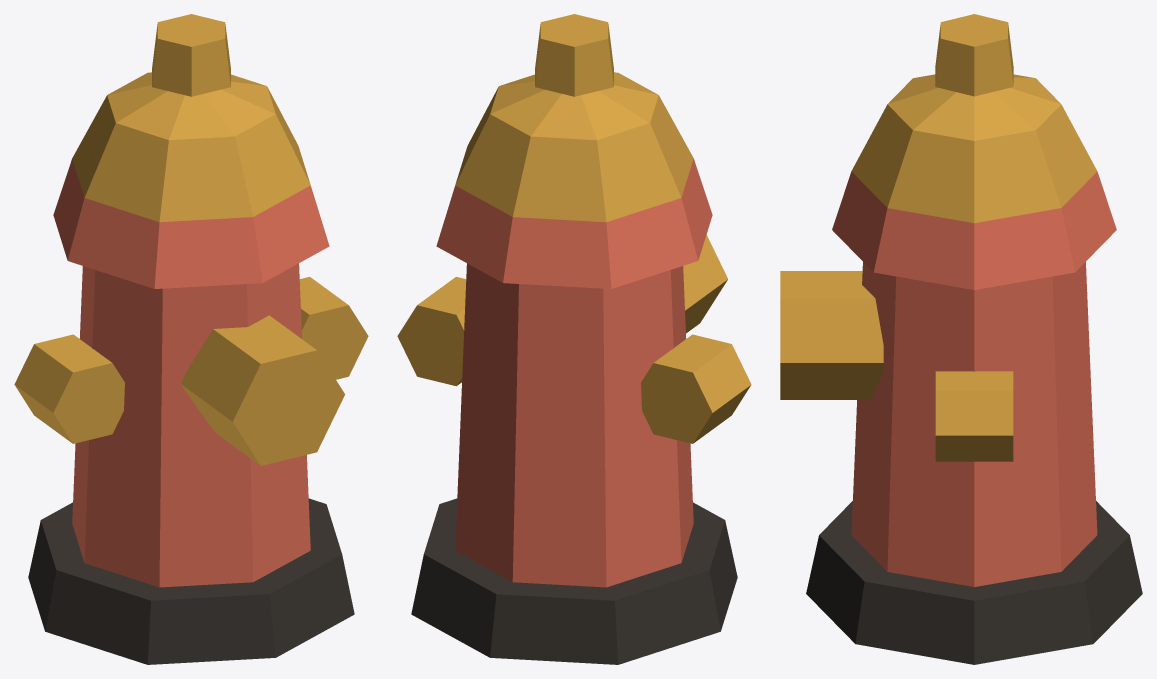
The model's file is hydrant.glb.
The picture shows the model from 3 angles, left to right: view 1: azimuth 30°, elevation 25°; view 2: azimuth 150°, elevation 25°; view 3: azimuth 270°, elevation 25°; orthographic projection.
Parts seen in each view (by area): view 1: hydrant_body, hydrant_foot, hydrant_bonnet, hydrant_shoulder, hydrant_nozzle, hydrant_portL, hydrant_cap, hydrant_portR; view 2: hydrant_body, hydrant_foot, hydrant_bonnet, hydrant_shoulder, hydrant_portL, hydrant_cap, hydrant_portR, hydrant_nozzle; view 3: hydrant_body, hydrant_foot, hydrant_bonnet, hydrant_shoulder, hydrant_nozzle, hydrant_portR, hydrant_cap.
Boxes of the visible parts, x1,y1,x2,y2 form: hydrant_body: [72, 263, 310, 587]; hydrant_foot: [28, 498, 354, 664]; hydrant_bonnet: [72, 72, 310, 222]; hydrant_shoulder: [53, 158, 329, 288]; hydrant_nozzle: [181, 315, 344, 465]; hydrant_portL: [14, 334, 124, 443]; hydrant_cap: [152, 14, 230, 96]; hydrant_portR: [299, 277, 368, 379]; hydrant_body: [455, 263, 693, 587]; hydrant_foot: [411, 498, 737, 664]; hydrant_bonnet: [455, 72, 693, 222]; hydrant_shoulder: [436, 158, 712, 288]; hydrant_portL: [641, 334, 751, 443]; hydrant_cap: [535, 14, 613, 96]; hydrant_portR: [397, 277, 466, 386]; hydrant_nozzle: [683, 235, 727, 333]; hydrant_body: [851, 262, 1097, 586]; hydrant_foot: [806, 501, 1142, 664]; hydrant_bonnet: [851, 74, 1097, 223]; hydrant_shoulder: [832, 171, 1116, 289]; hydrant_nozzle: [780, 271, 883, 399]; hydrant_portR: [935, 371, 1013, 461]; hydrant_cap: [935, 14, 1013, 96].
Bounding box in the file's own units: 0.56 × 0.96 × 0.56.
